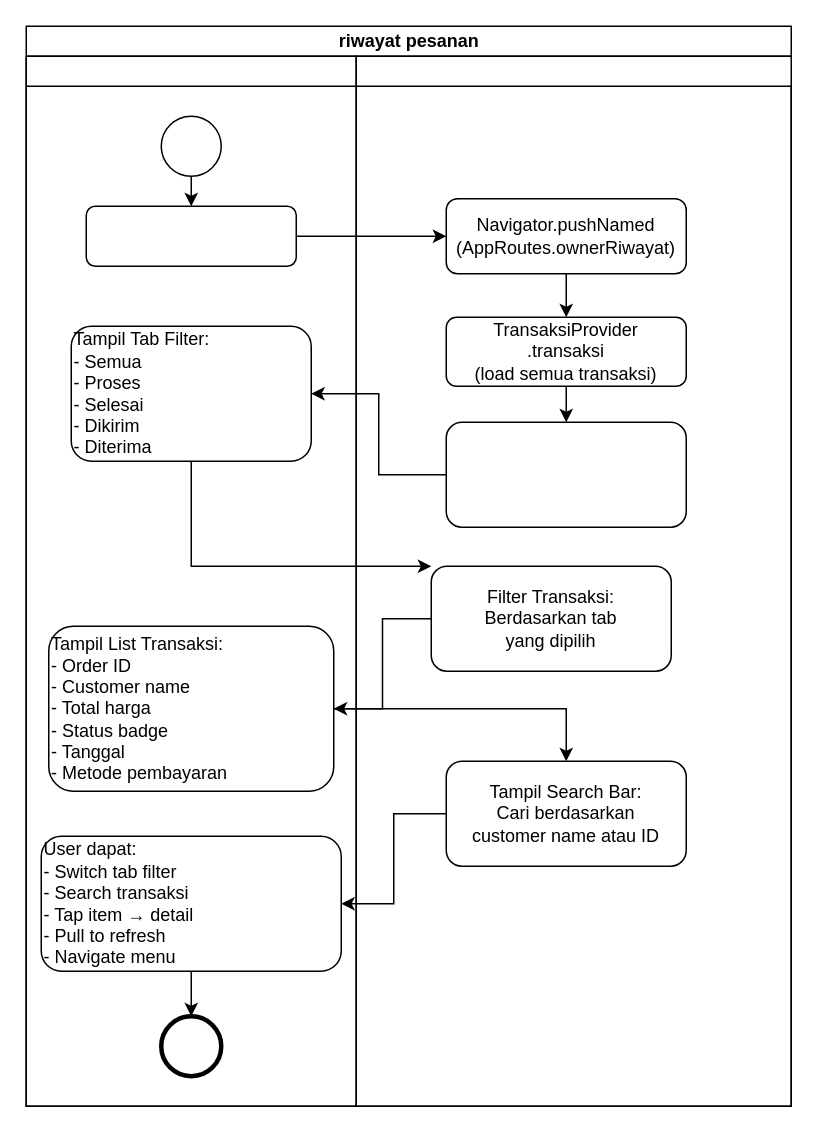
The diagram is 818 pixels wide and 1133 high, and some of its shapes have lost their labels. Each missing label, with the box of its shape:
For Each Transaksi: Load Customer, Pembayaran, Detail Laundry: (445, 421, 686, 527)
Klik 'Riwayat' dari Navigation Menu: (85, 205, 296, 266)
owner: (25, 55, 356, 1106)
system: (355, 55, 791, 1106)
